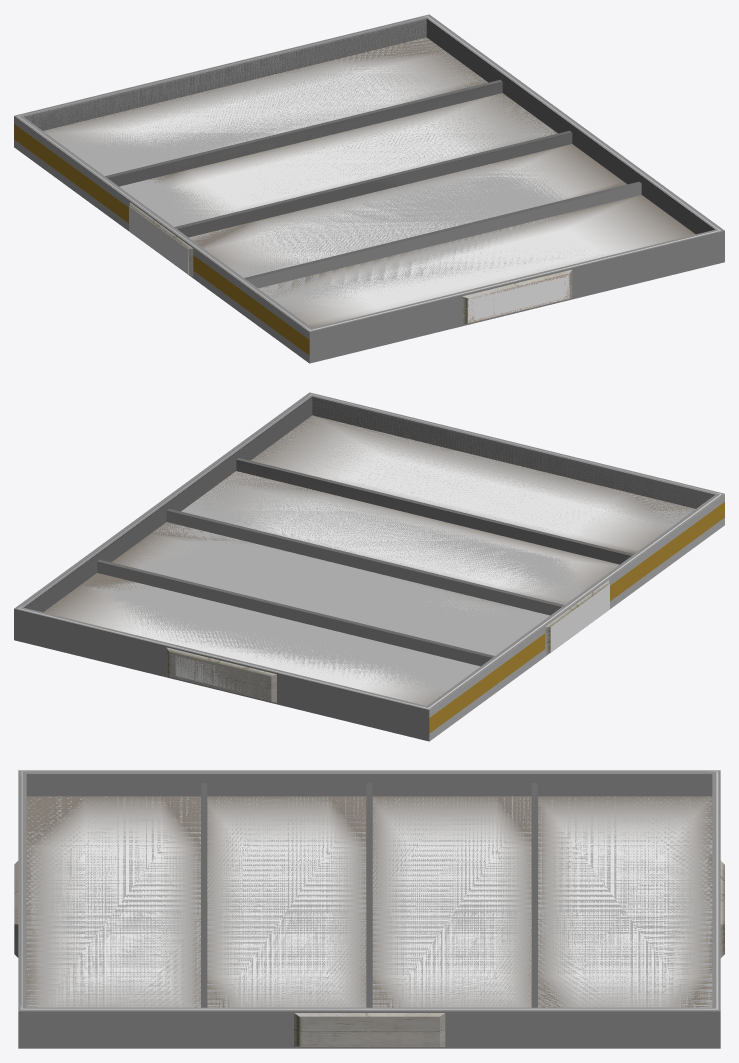
File: s_fuel_structure_06.dae
3 renders of one model, top to bottom at view 1: azimuth 30°, elevation 25°; view 2: azimuth 150°, elevation 25°; view 3: azimuth 270°, elevation 25°, orthographic. The views are drawn at different scales.
Parts seen in each view (by area): view 1: s_fuel_structure_06_L600, s_fuel_structure_06_L50, Colmesh_s_fuel_structure_06-1, s_fuel_structure_06_L150, s_fuel_structure_06_L300; view 2: s_fuel_structure_06_L600, s_fuel_structure_06_L50, Colmesh_s_fuel_structure_06-1, s_fuel_structure_06_L300, s_fuel_structure_06_L150; view 3: s_fuel_structure_06_L600, s_fuel_structure_06_L50, Colmesh_s_fuel_structure_06-1, s_fuel_structure_06_L150, s_fuel_structure_06_L300.
Boxes of the visible parts, <box> form: s_fuel_structure_06_L600: <box>17,15,720,330</box>; s_fuel_structure_06_L50: <box>27,18,640,329</box>; Colmesh_s_fuel_structure_06-1: <box>14,14,724,363</box>; s_fuel_structure_06_L150: <box>26,25,694,327</box>; s_fuel_structure_06_L300: <box>14,18,714,363</box>; s_fuel_structure_06_L600: <box>18,394,721,708</box>; s_fuel_structure_06_L50: <box>50,397,695,707</box>; Colmesh_s_fuel_structure_06-1: <box>14,392,724,741</box>; s_fuel_structure_06_L300: <box>24,396,724,741</box>; s_fuel_structure_06_L150: <box>66,403,636,703</box>; s_fuel_structure_06_L600: <box>20,771,718,1009</box>; s_fuel_structure_06_L50: <box>26,783,712,1007</box>; Colmesh_s_fuel_structure_06-1: <box>14,770,724,1048</box>; s_fuel_structure_06_L150: <box>26,783,537,1007</box>; s_fuel_structure_06_L300: <box>201,783,537,1007</box>.
Bounding box in the file's own units: 14 × 17.21 × 1.
